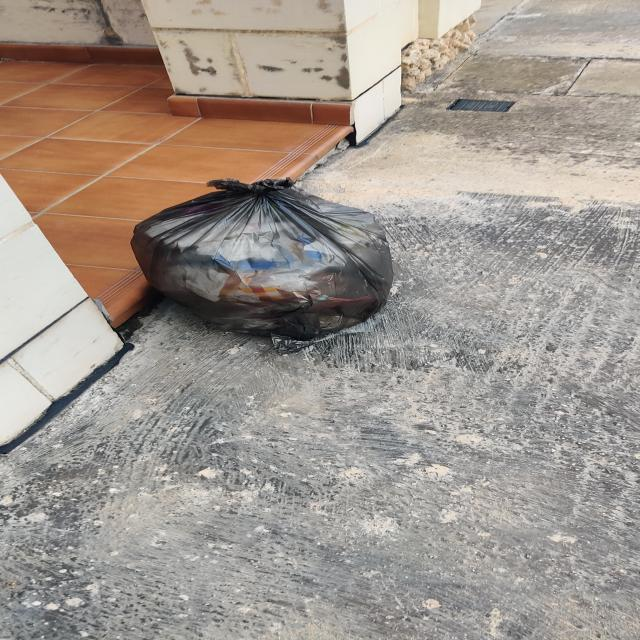Mixed Waste -Black Bags-: (137, 179, 393, 338)
